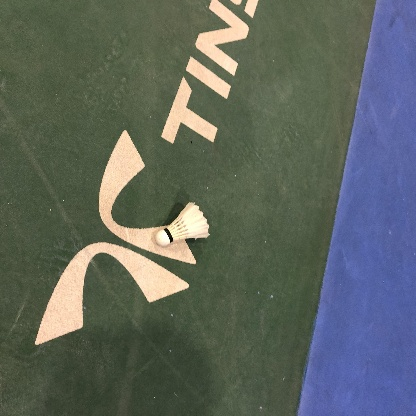ball_single: (155, 201, 210, 246)
